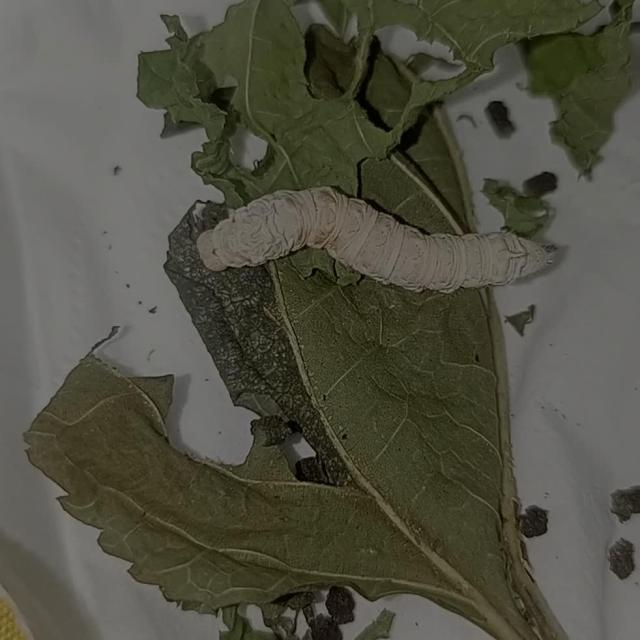Healthy: (183, 168, 570, 301)
